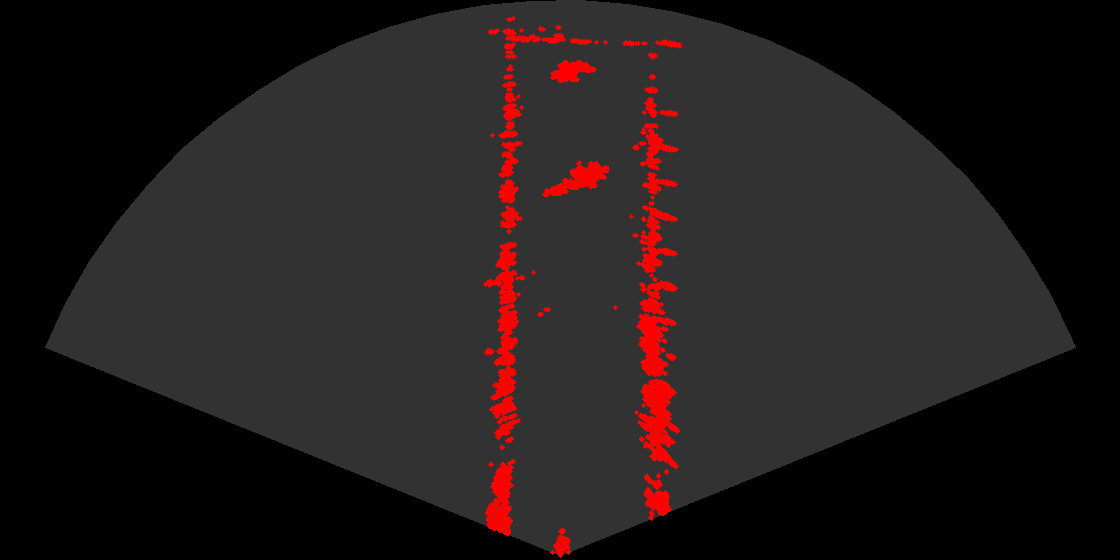AUV: (544, 58, 600, 90)
frogman: (541, 154, 609, 201)
